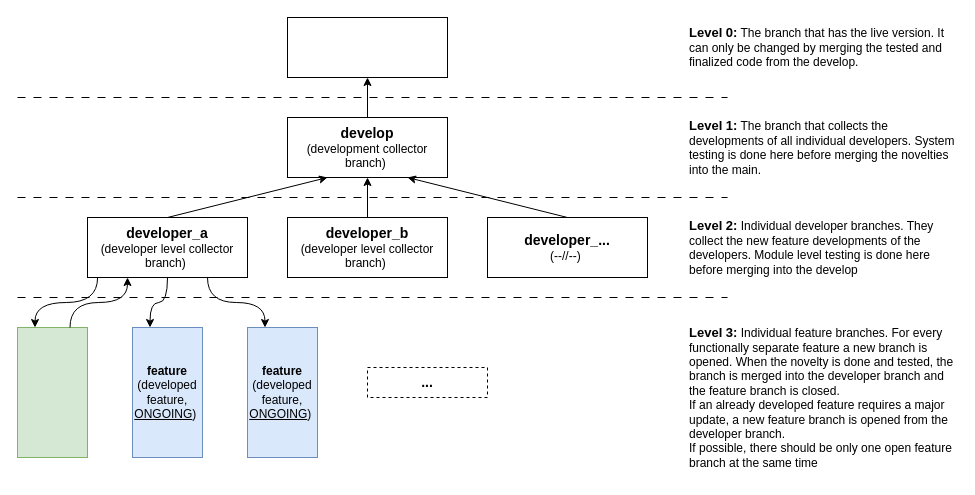
Image size: 975x495. Some labels were removed from this diagram. Here are the shapes that lost their labels. From the top down, the centre of each, then its label:
At pixel 367 47: "main (rolled out codebase branch)".
At pixel 52 392: "feature (developed feature, DONE )".
